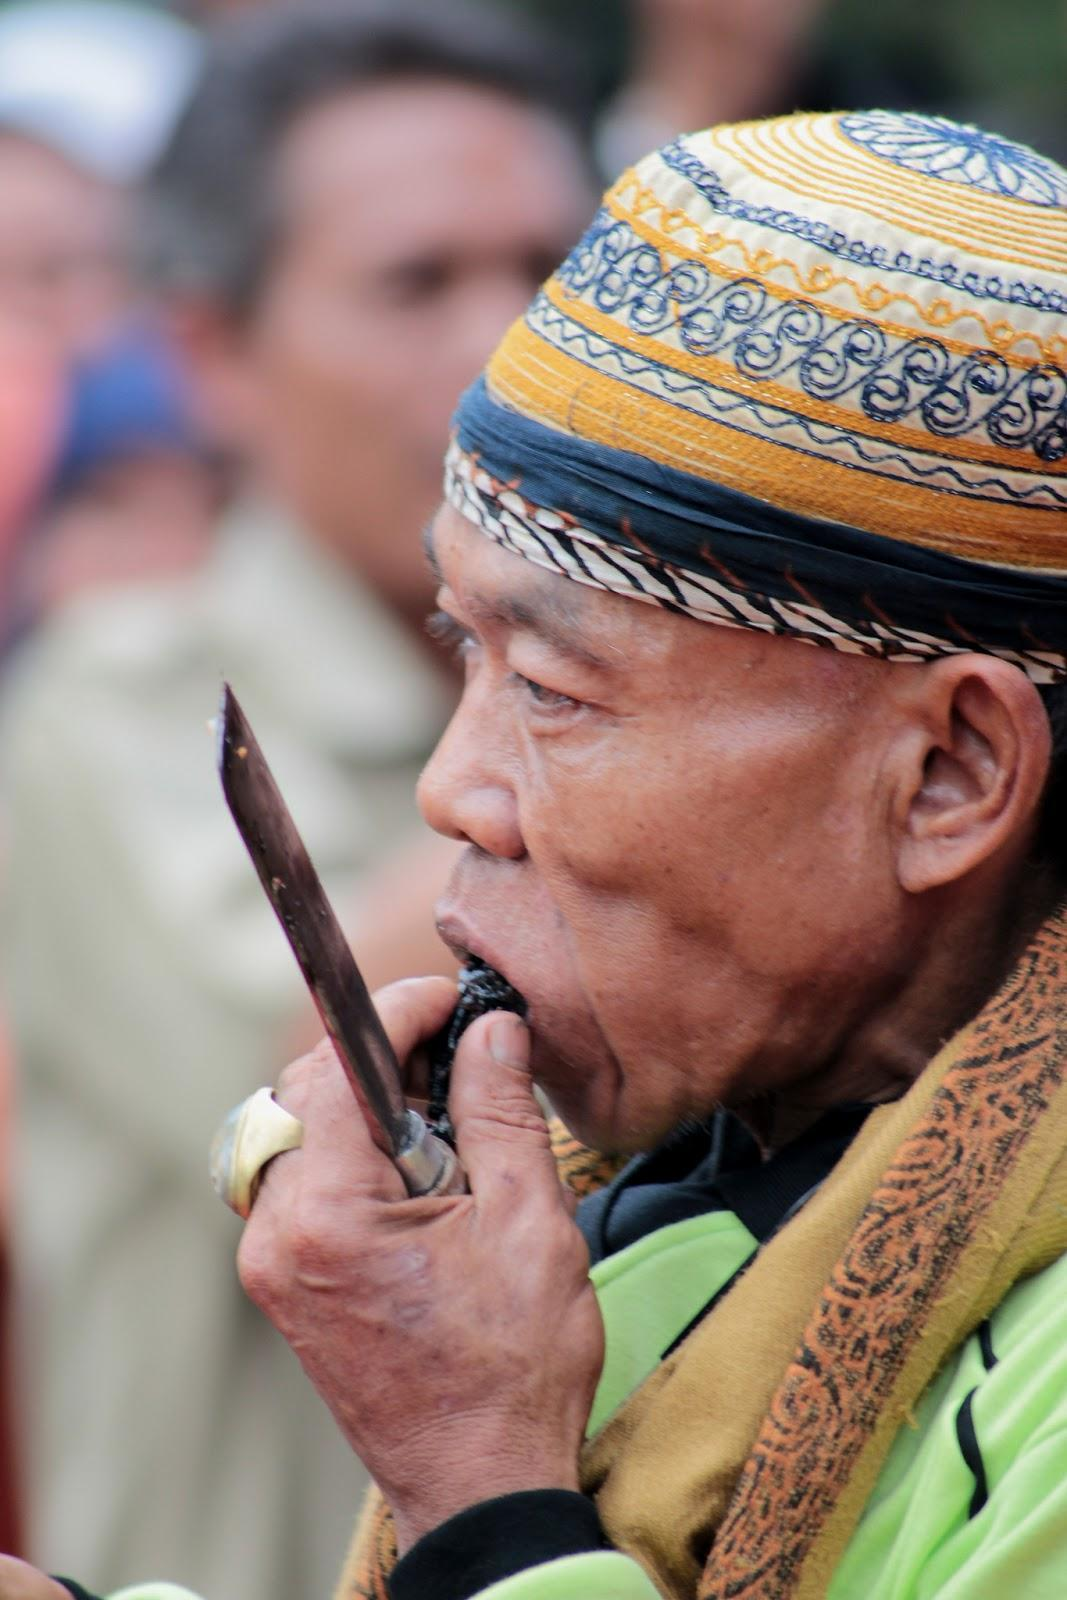faca: (219, 683, 462, 1196)
